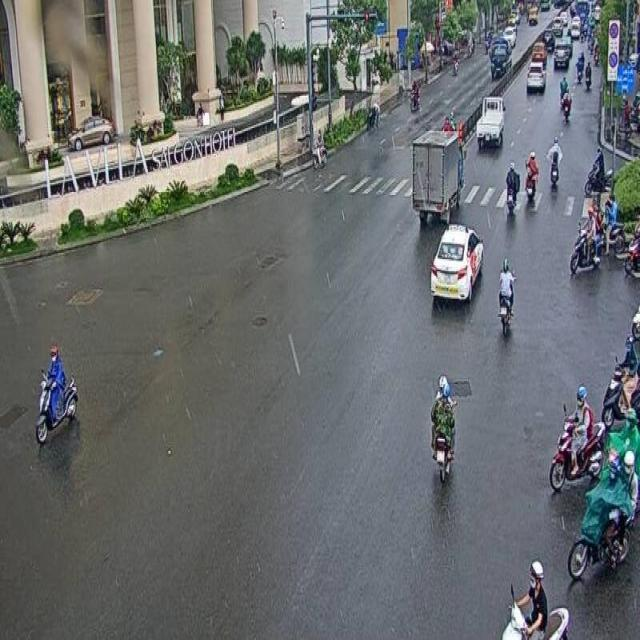car: (430, 219, 480, 305), (476, 93, 505, 146)
motorcycle: (567, 451, 632, 582), (549, 383, 604, 492), (501, 554, 568, 640), (37, 340, 75, 445), (601, 332, 640, 431), (430, 370, 457, 483), (568, 206, 602, 276), (583, 145, 614, 195), (498, 256, 516, 337), (505, 157, 519, 212), (546, 137, 561, 188), (524, 148, 538, 201)
truck: (412, 127, 466, 226)
